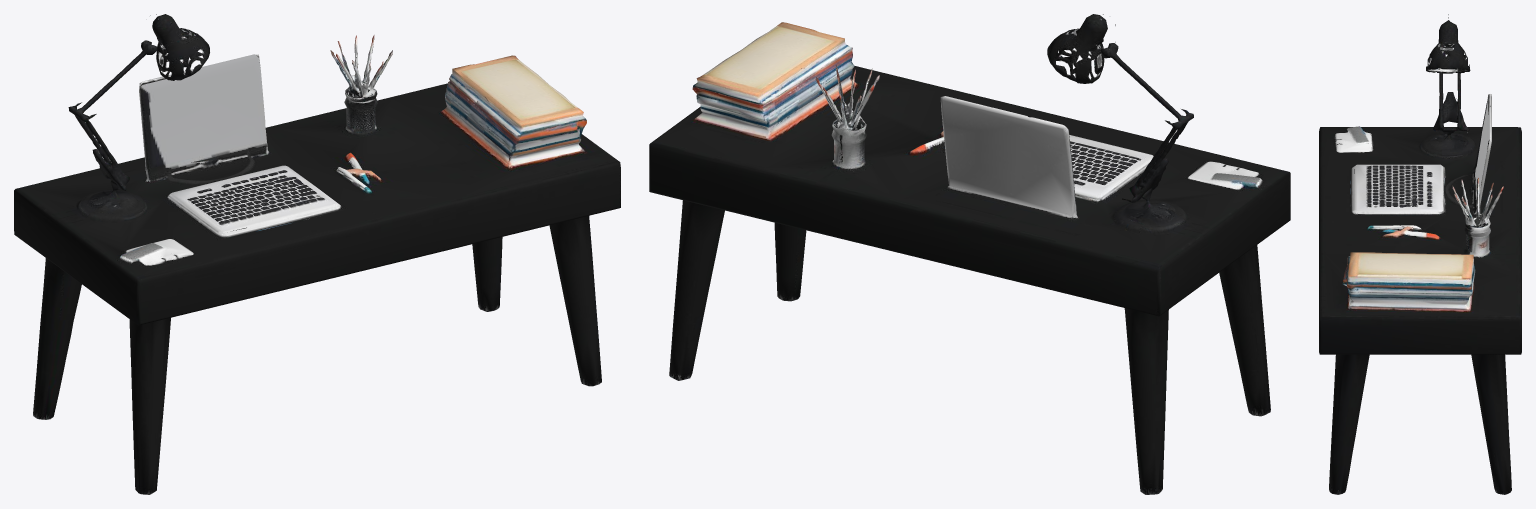
Rendered from desk.glb.
3 renders of one model, left to right at view 1: azimuth 30°, elevation 25°; view 2: azimuth 150°, elevation 25°; view 3: azimuth 270°, elevation 25°, orthographic. The views are drawn at different scales.
Parts seen in each view (by area): view 1: desk; view 2: desk; view 3: desk.
Boxes of the visible parts, bbox=[...] form: desk: bbox=[14, 14, 620, 494]; desk: bbox=[649, 14, 1290, 494]; desk: bbox=[1319, 14, 1521, 494].
Bounding box in the file's own units: 1.2 × 0.9655 × 0.5371.
Materials: 1 (1 with a texture image).
